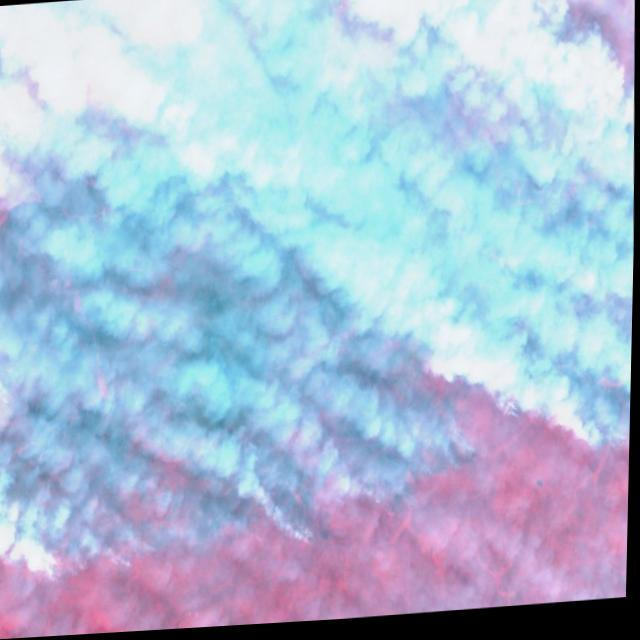fire: (136, 419, 481, 579), (0, 325, 129, 588), (458, 0, 637, 177), (483, 354, 633, 486), (0, 78, 92, 173)
